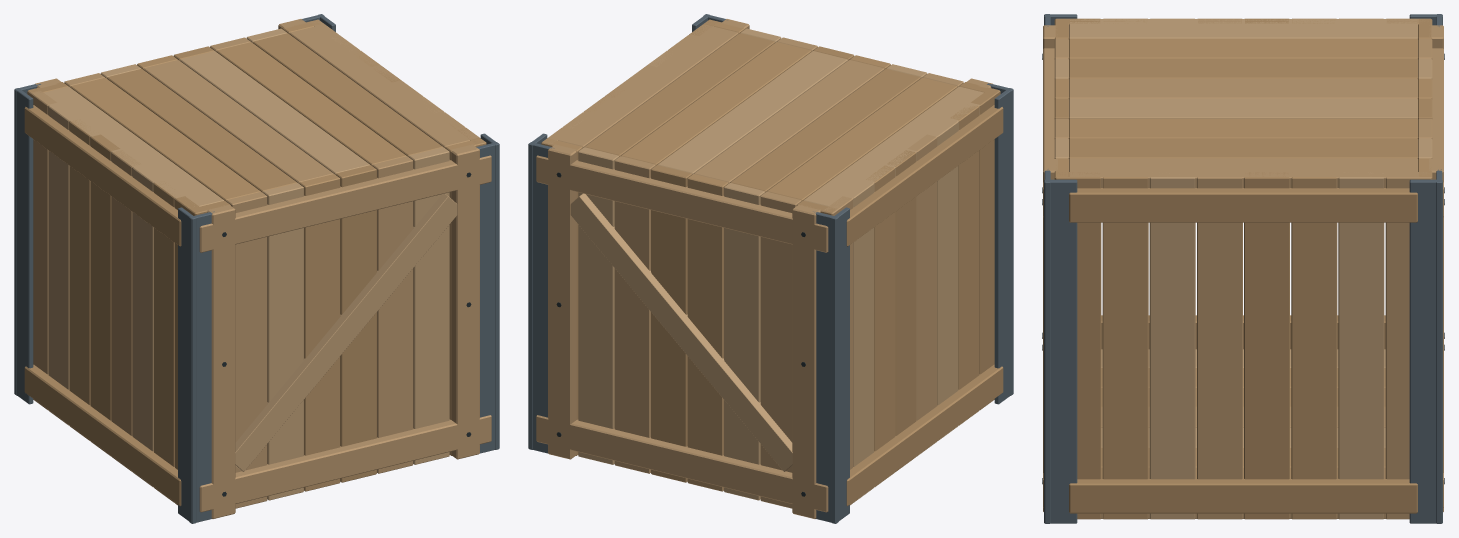
File: 02_crate_wood_large.glb
3 views of the same model, side by side, from view 1: azimuth 30°, elevation 25°; view 2: azimuth 150°, elevation 25°; view 3: azimuth 270°, elevation 25° (orthographic). The views are drawn at different scales.
Parts seen in each view (by area): view 1: 02_crate_wood_large; view 2: 02_crate_wood_large; view 3: 02_crate_wood_large.
Part boxes in pixels (left/top/right/bottom): 02_crate_wood_large: left=14, top=14, right=499, bottom=523; 02_crate_wood_large: left=528, top=14, right=1013, bottom=523; 02_crate_wood_large: left=1042, top=14, right=1444, bottom=523.
Bounding box in the file's own units: 1.7 × 1.6 × 1.71.
